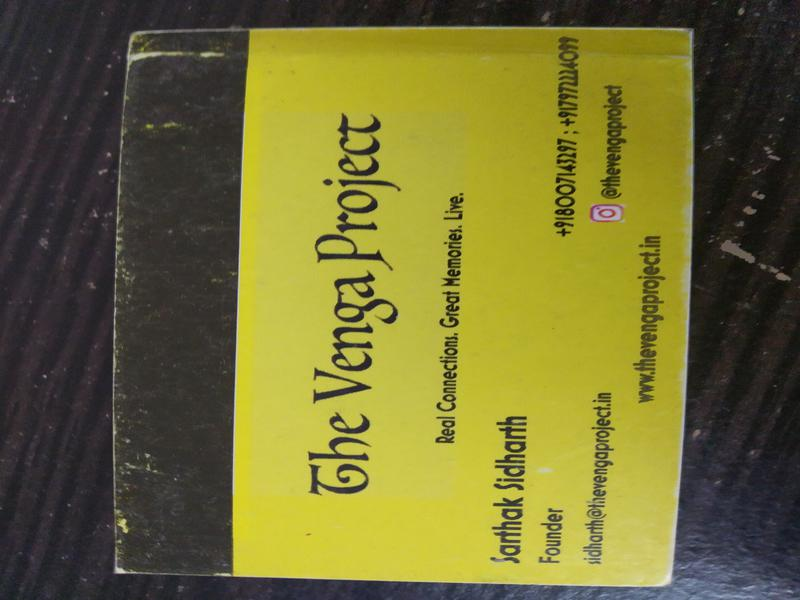card: (104, 21, 698, 593)
